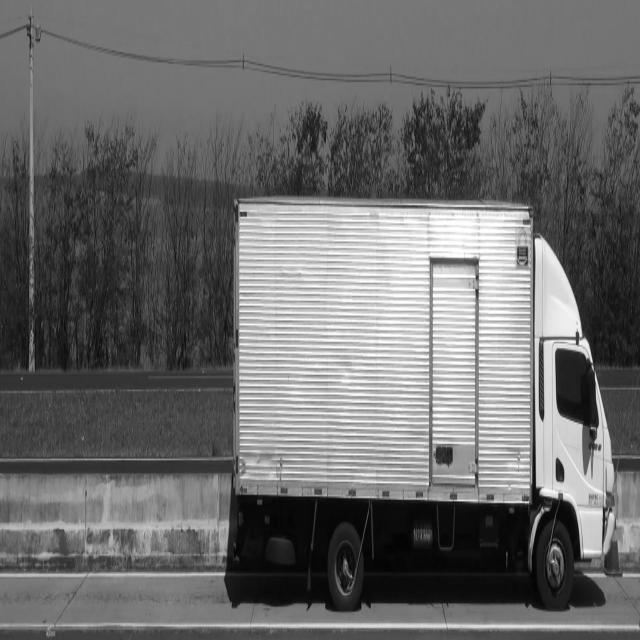Truck: (229, 197, 615, 611)
